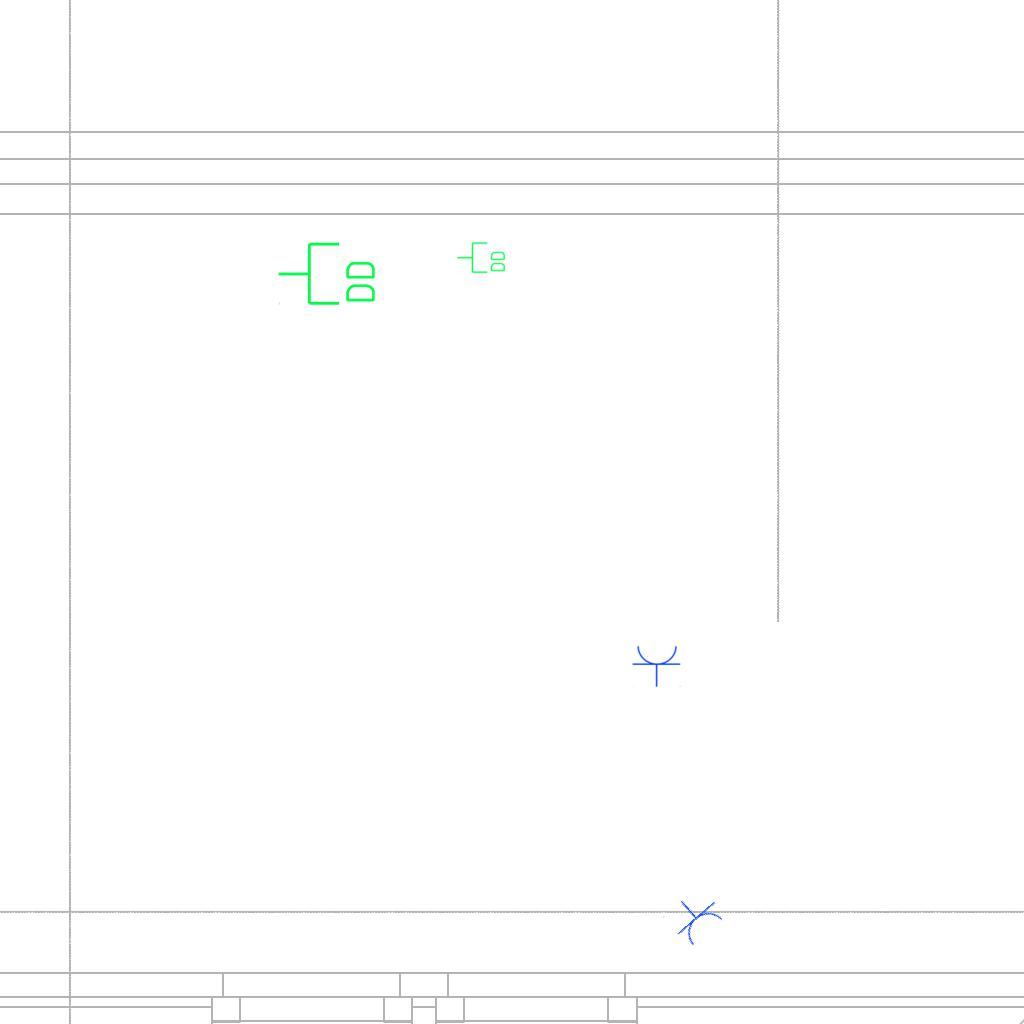Datenanschluss_zweifach: (276, 240, 379, 309), (456, 241, 507, 275)
Schukosteckdose_einfach: (662, 884, 728, 951), (632, 644, 682, 687)
